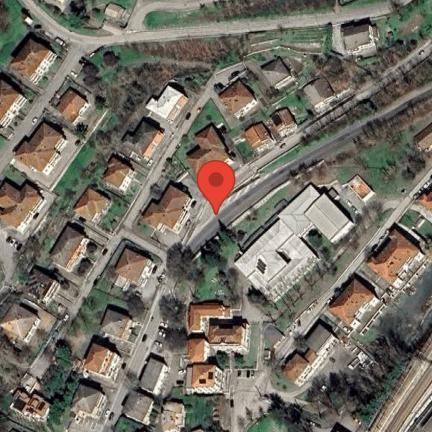area_open: (359, 260, 432, 397), (150, 197, 208, 259), (154, 297, 187, 389), (132, 261, 168, 332), (0, 227, 27, 308), (320, 181, 370, 223), (240, 278, 279, 323)
built: (234, 220, 321, 303), (189, 125, 237, 202), (367, 223, 423, 288), (17, 116, 74, 176), (328, 272, 381, 331), (142, 182, 199, 235), (8, 35, 61, 87), (276, 184, 322, 239), (308, 194, 355, 245), (49, 223, 94, 273), (0, 181, 43, 233), (10, 371, 51, 425), (0, 298, 43, 344), (0, 81, 32, 139), (53, 80, 91, 128), (122, 116, 162, 161), (280, 340, 319, 386), (114, 245, 152, 288), (219, 78, 258, 118), (300, 75, 341, 113), (304, 318, 342, 359), (190, 303, 234, 337), (81, 341, 119, 380), (261, 56, 298, 95), (148, 86, 186, 121), (73, 189, 111, 223), (122, 389, 156, 425), (24, 268, 57, 305), (139, 355, 168, 396), (68, 383, 104, 416), (100, 306, 133, 342), (267, 106, 298, 143), (211, 323, 249, 353), (341, 22, 375, 54), (103, 155, 134, 188), (243, 122, 274, 155), (192, 364, 224, 392), (156, 403, 186, 432), (347, 175, 376, 205), (187, 338, 211, 364), (416, 177, 432, 214), (415, 122, 432, 153), (105, 2, 127, 23)
vegetation_high: (300, 340, 389, 425), (43, 338, 78, 432)
vegetation_low: (227, 95, 432, 260), (260, 51, 432, 173), (22, 107, 132, 272), (266, 210, 394, 350), (76, 35, 248, 126), (306, 0, 432, 97), (167, 230, 234, 346), (145, 0, 392, 31), (63, 269, 134, 362), (240, 28, 323, 86), (173, 97, 232, 165), (38, 0, 113, 38), (0, 0, 31, 75), (213, 322, 259, 370), (1, 334, 30, 410), (248, 409, 317, 432), (188, 396, 231, 432), (399, 206, 432, 250), (100, 196, 133, 234)
